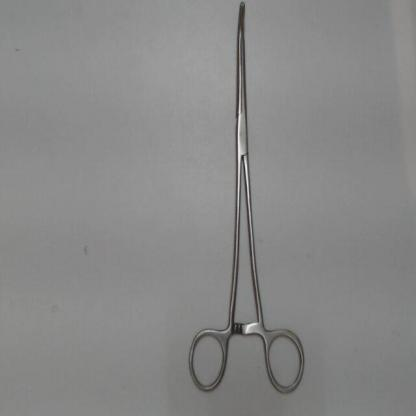Lahey Forceps: (183, 2, 313, 402)
